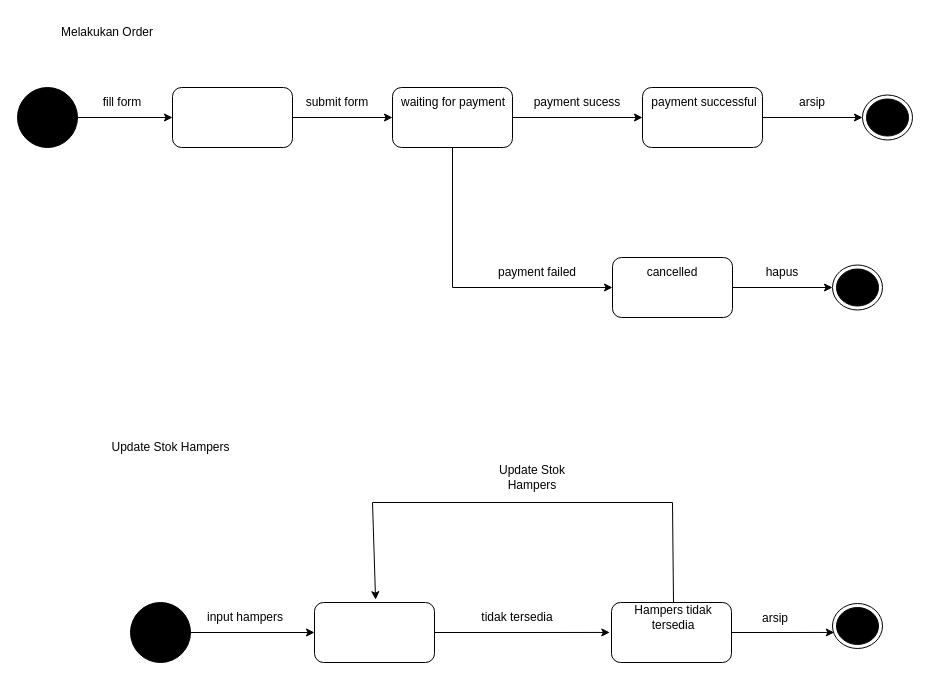
Image size: 930x680. Some labels were removed from this diagram. Here are the shapes that lost their labels. From the top down, the centre of each, then its label:
At (232,117): "form terbuat".
At (374,632): "Hampers Tersedia".
